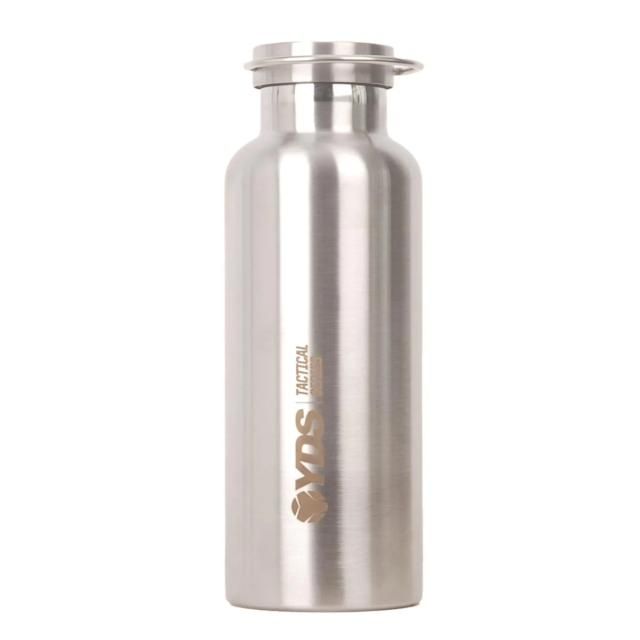Termos: (222, 40, 428, 617)
